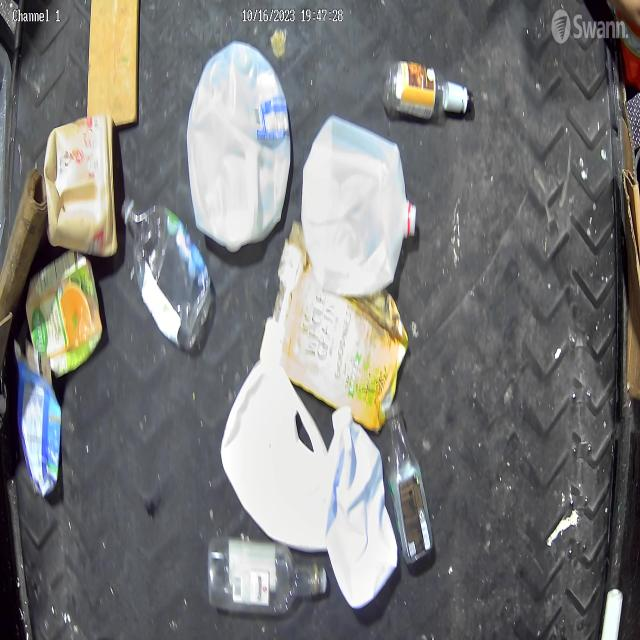milk_jug: (186, 43, 292, 252), (220, 355, 330, 553), (301, 113, 418, 299), (328, 405, 399, 611)
non_white_jug: (42, 114, 119, 258), (25, 250, 104, 379)
plastic_bottle: (122, 193, 213, 352), (386, 402, 434, 568)
